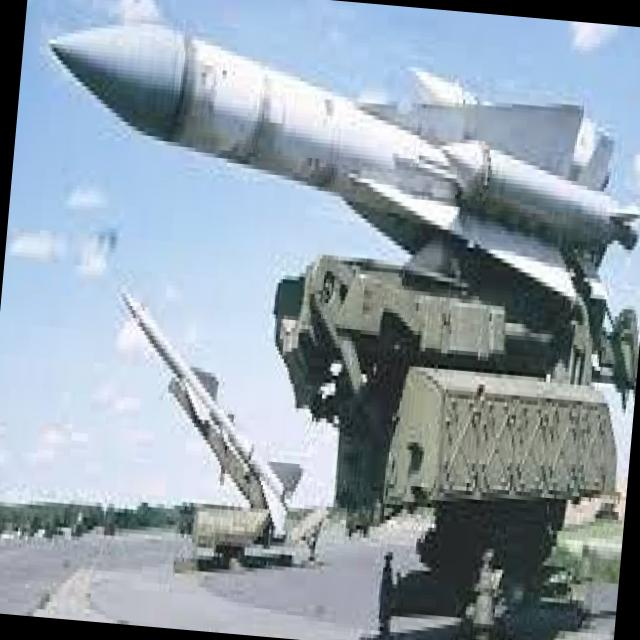rocket: (26, 9, 640, 322)
